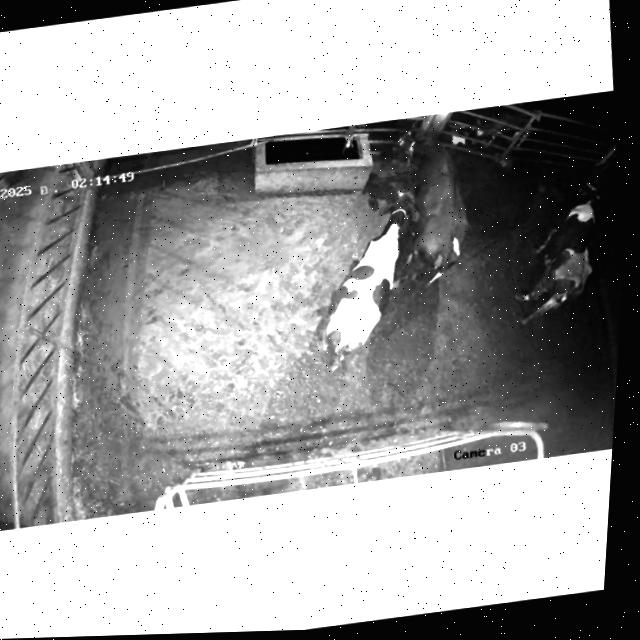stand: (305, 183, 436, 373), (504, 170, 618, 330), (381, 117, 483, 288)
